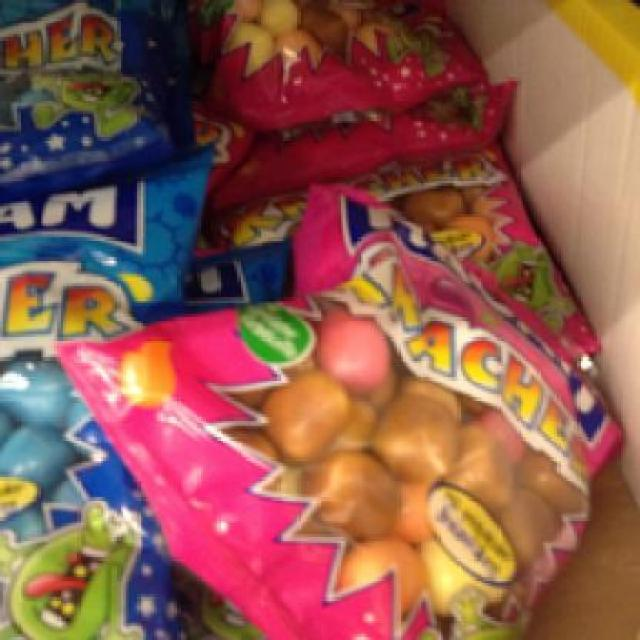Candy: (85, 214, 586, 620), (208, 2, 472, 138)
